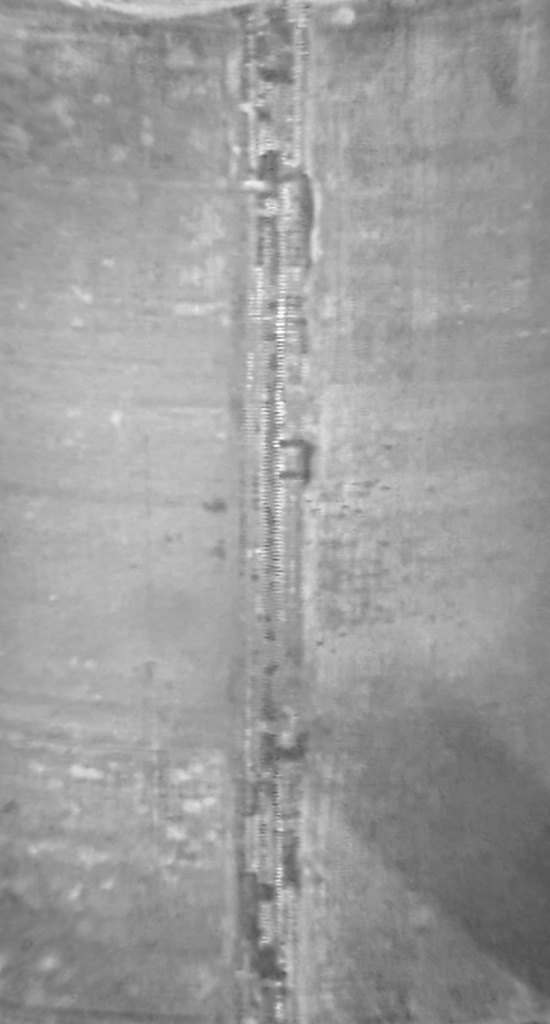splice: (226, 2, 323, 1024)
